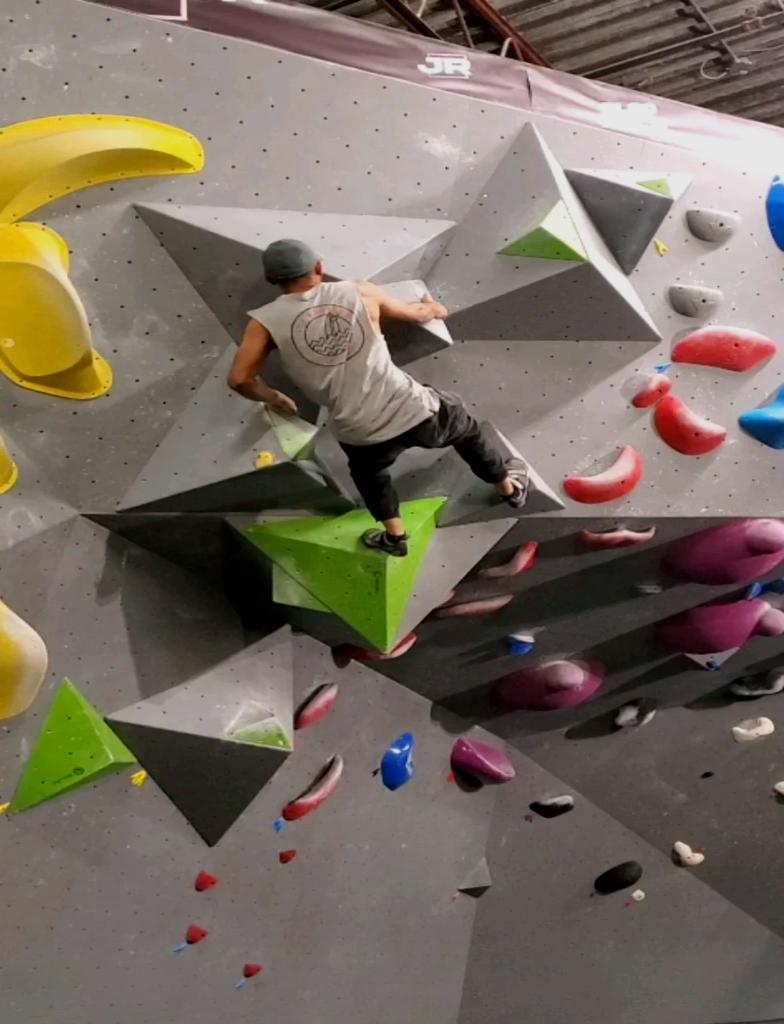crimp: (733, 717, 774, 743), (185, 925, 208, 945), (195, 871, 216, 892), (243, 963, 262, 979)
downhold: (686, 207, 740, 244), (668, 284, 723, 319)
jug: (282, 754, 343, 821), (577, 528, 655, 549), (531, 795, 574, 818)
ledge: (498, 200, 588, 261), (672, 326, 777, 372), (652, 394, 726, 456), (562, 446, 641, 504), (293, 682, 337, 730)
pinch: (0, 115, 203, 225), (451, 738, 514, 785), (673, 841, 704, 867)
sidepull: (0, 222, 110, 399), (479, 542, 536, 579), (381, 734, 413, 791)
sloper: (656, 593, 783, 656), (662, 519, 783, 585), (491, 659, 605, 713)
undercling: (613, 697, 657, 728)
volume: (422, 123, 658, 342), (105, 625, 294, 846), (248, 498, 445, 652), (9, 679, 136, 814), (566, 169, 692, 276)
